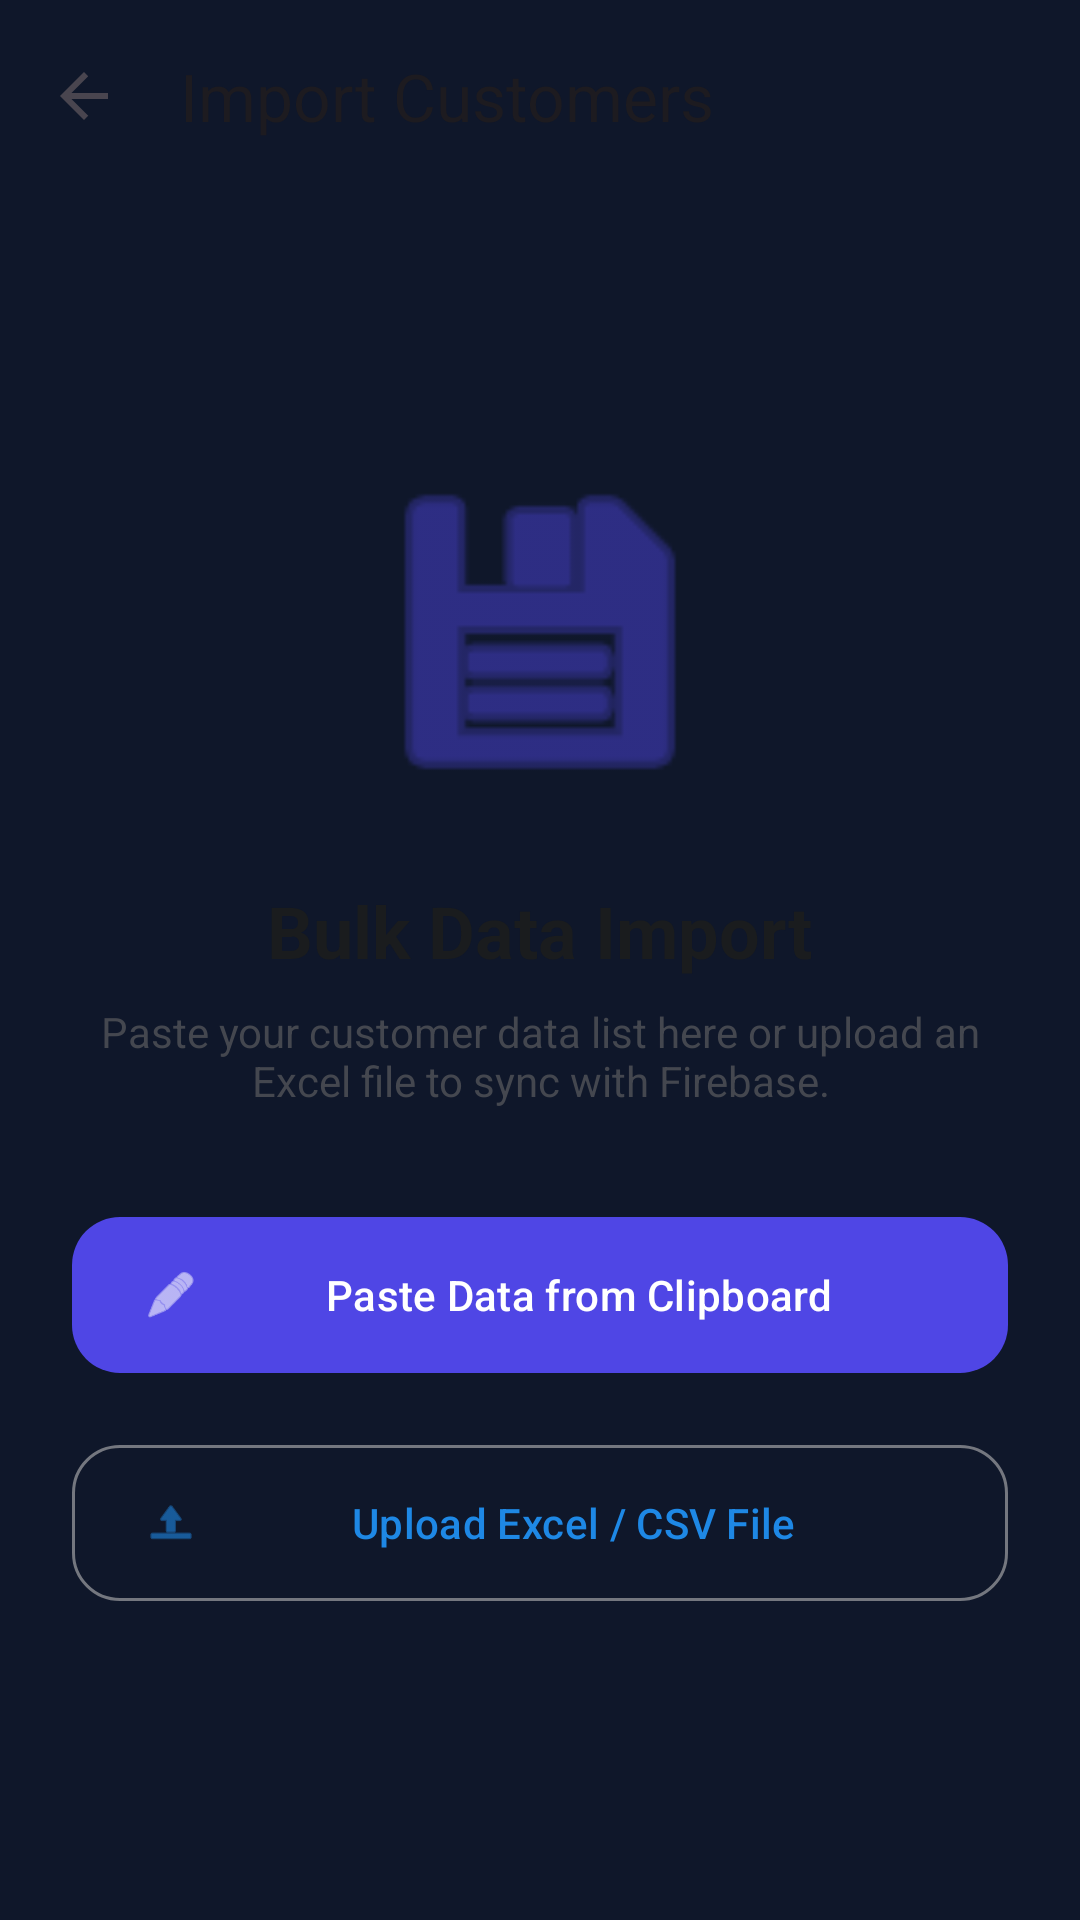

Screen size 1080×1920. Icon name, then its box in pixels as (x1, y1, x2, y2):
save: (405, 495, 675, 769)
